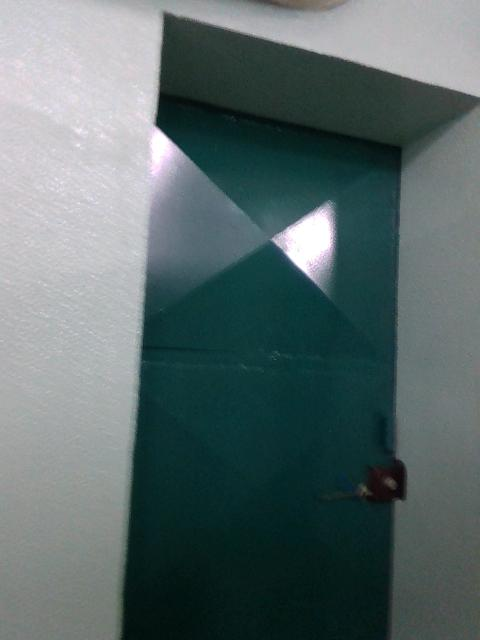door: (120, 95, 401, 640)
